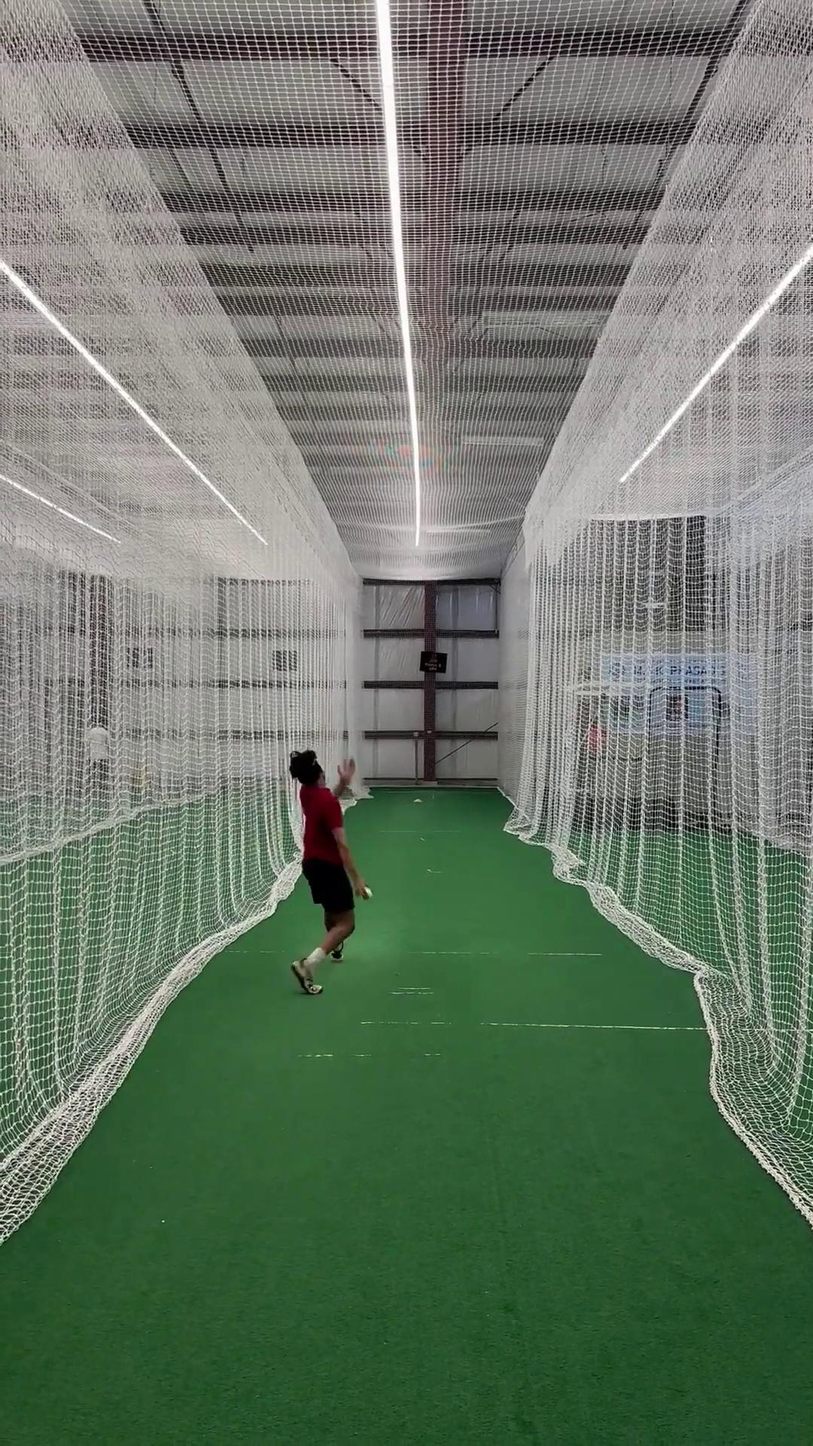ball: (356, 884, 379, 902)
